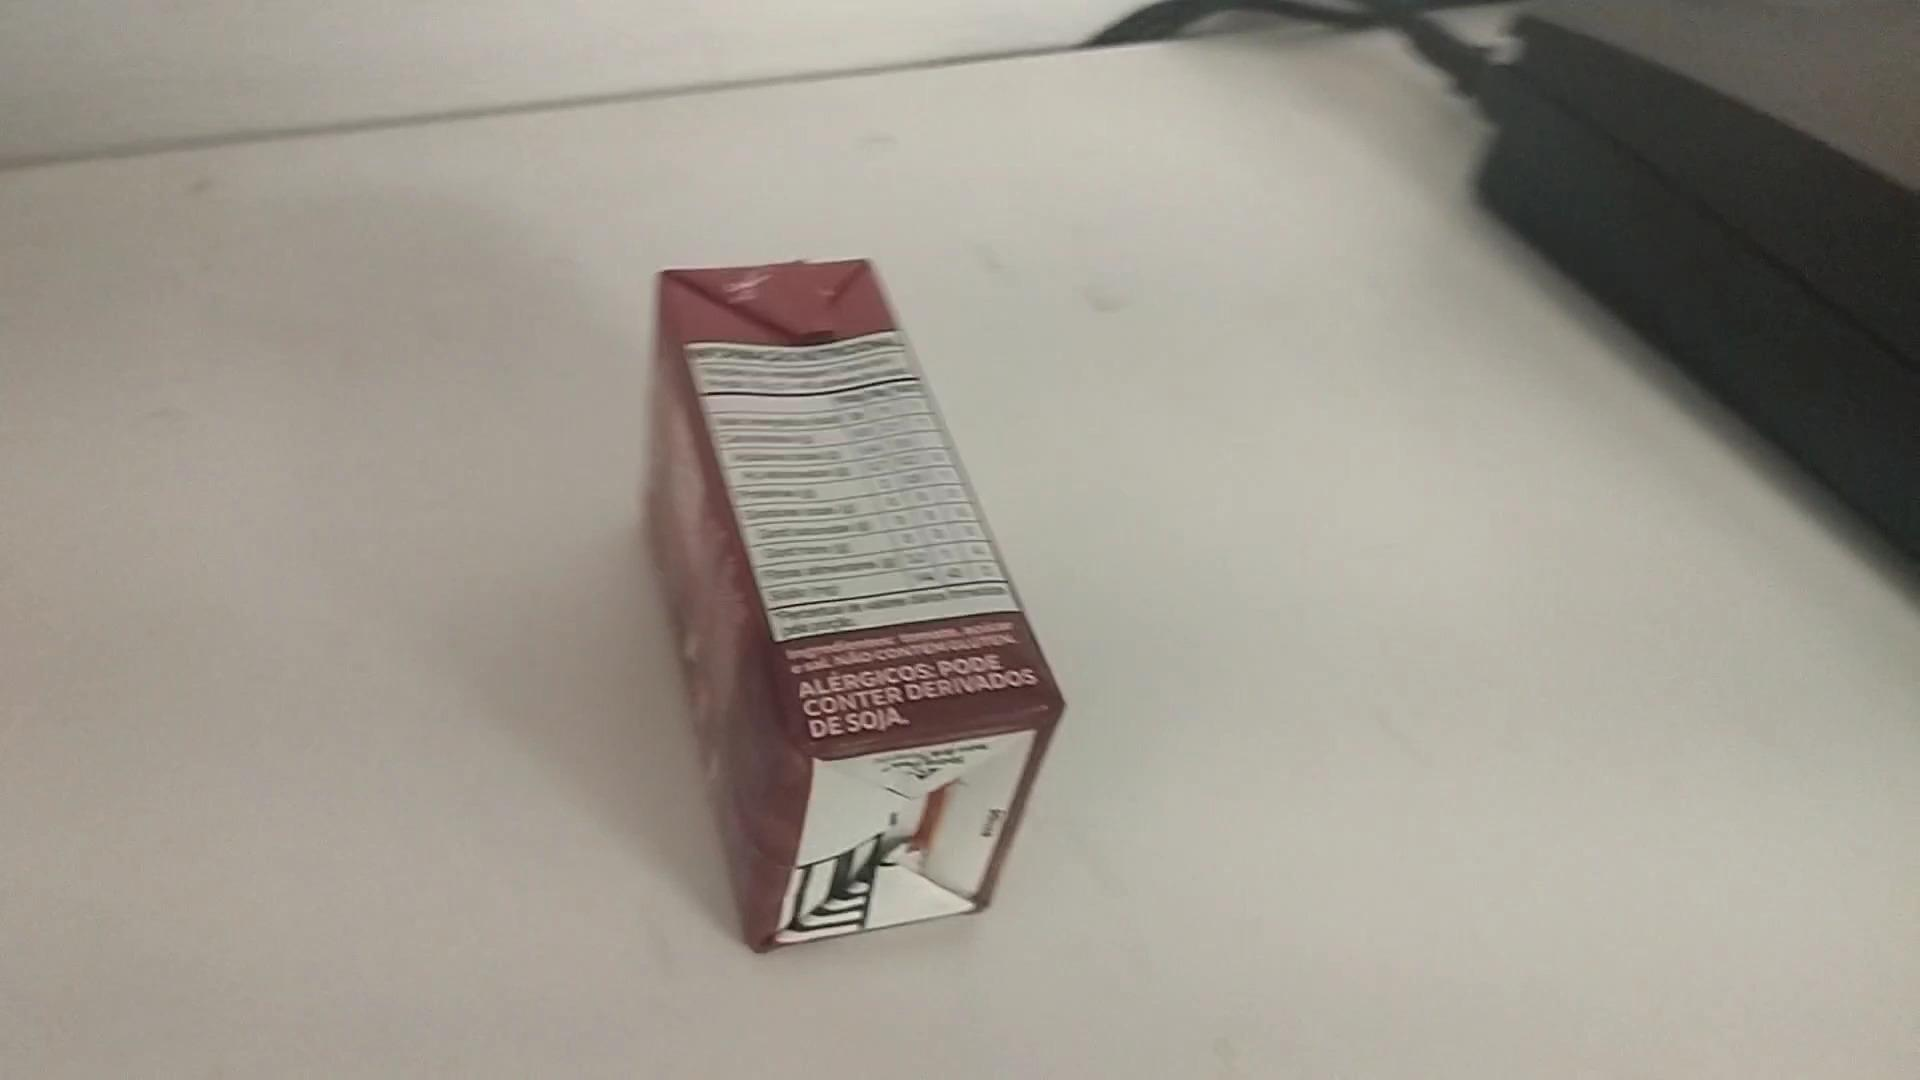tomate: (624, 214, 1087, 965)
